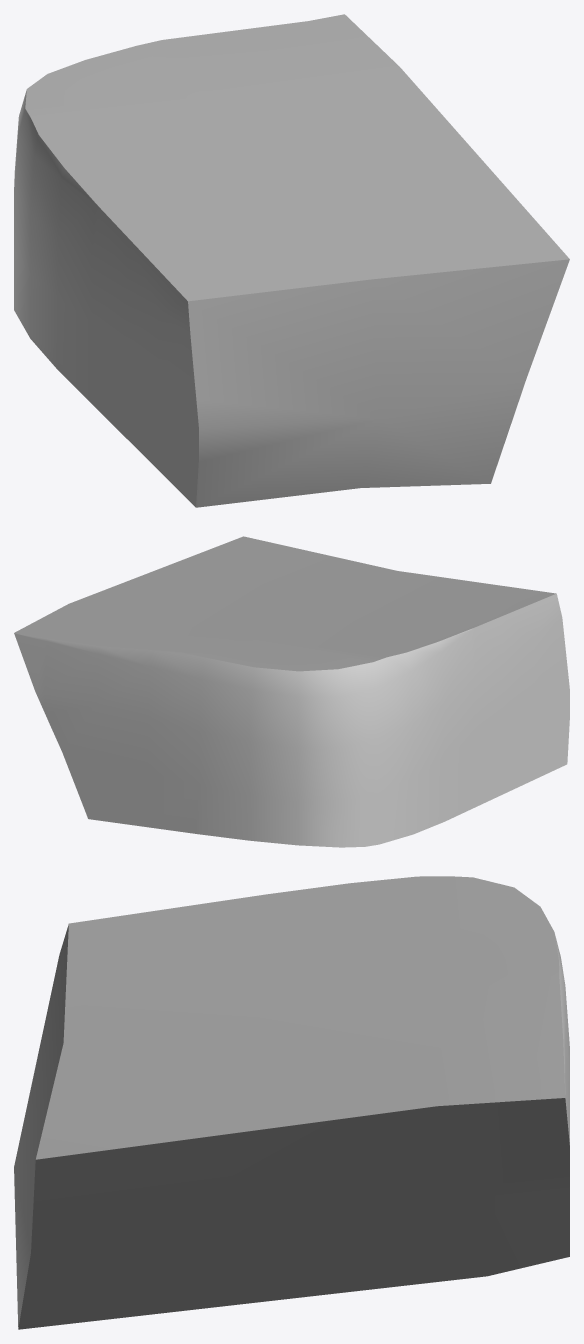
File: Happy_Box10.fbx
3 renders of one model, top to bottom at view 1: azimuth 30°, elevation 25°; view 2: azimuth 150°, elevation 25°; view 3: azimuth 270°, elevation 25°, orthographic. The views are drawn at different scales.
Visible parts, largest first — view 1: Happy_Box10; view 2: Happy_Box10; view 3: Happy_Box10.
Part boxes in pixels (left/top/right/bottom): Happy_Box10: left=14, top=14, right=569, bottom=507; Happy_Box10: left=14, top=536, right=569, bottom=847; Happy_Box10: left=14, top=876, right=569, bottom=1329.
Bounding box in the file's own units: 28.02 × 19.98 × 31.95.
Materials: 2 (1 with a texture image).
